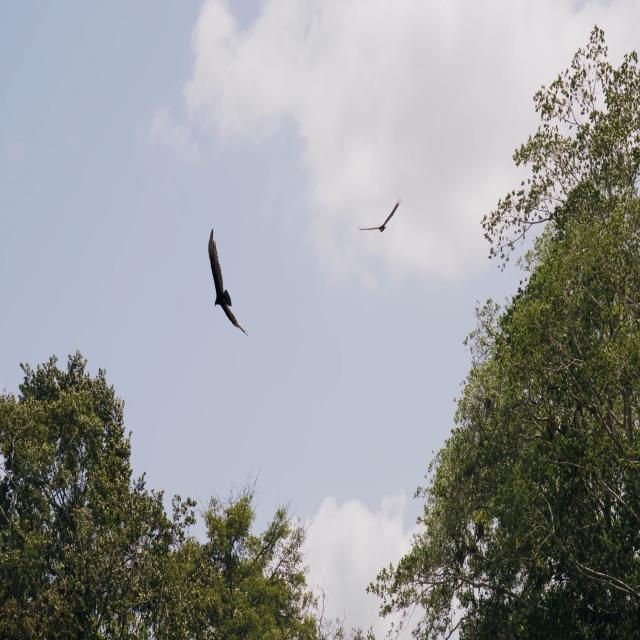bird: (207, 226, 249, 338), (355, 194, 403, 236)
